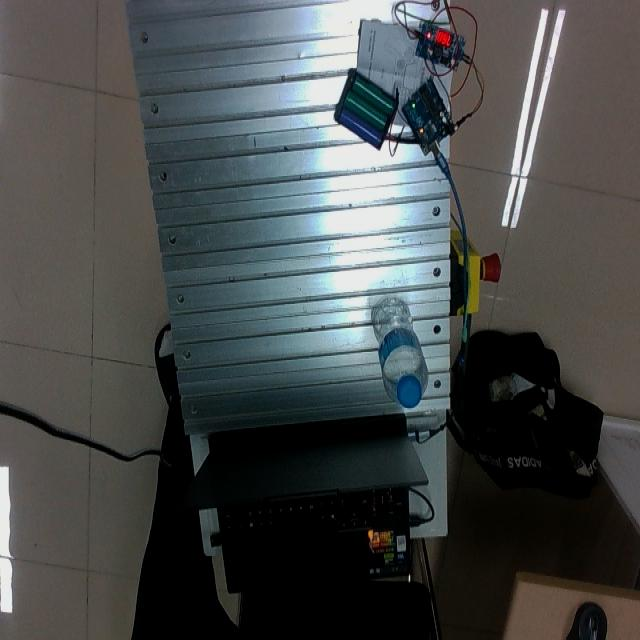lavie: (372, 297, 428, 408)
